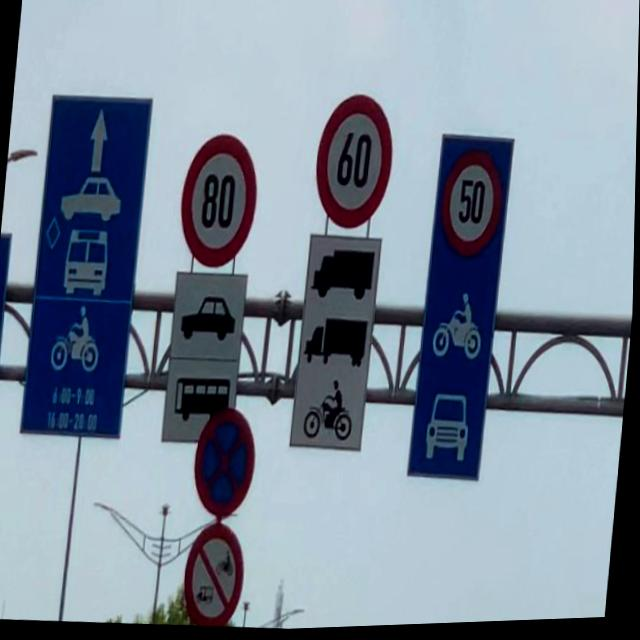Cam dung xe va do xe: (189, 402, 264, 525)
Toc do toi da cho phep: (307, 80, 406, 236), (173, 122, 267, 275), (434, 143, 511, 268)
